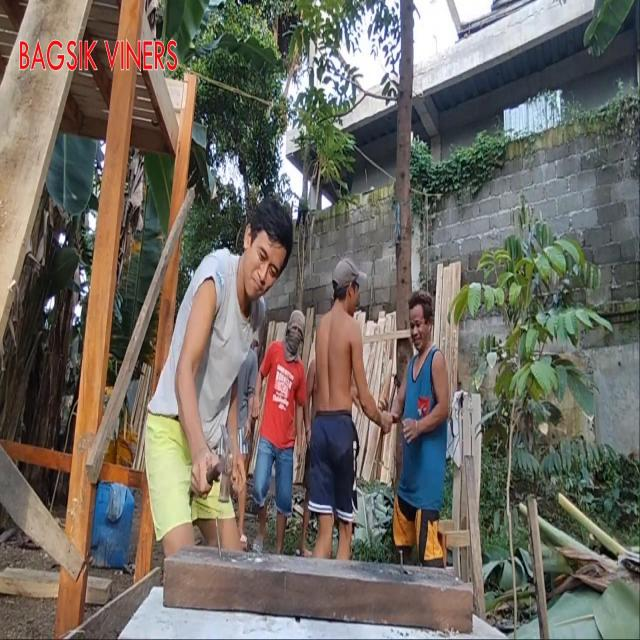hammer: (189, 423, 234, 504), (388, 372, 401, 413)
